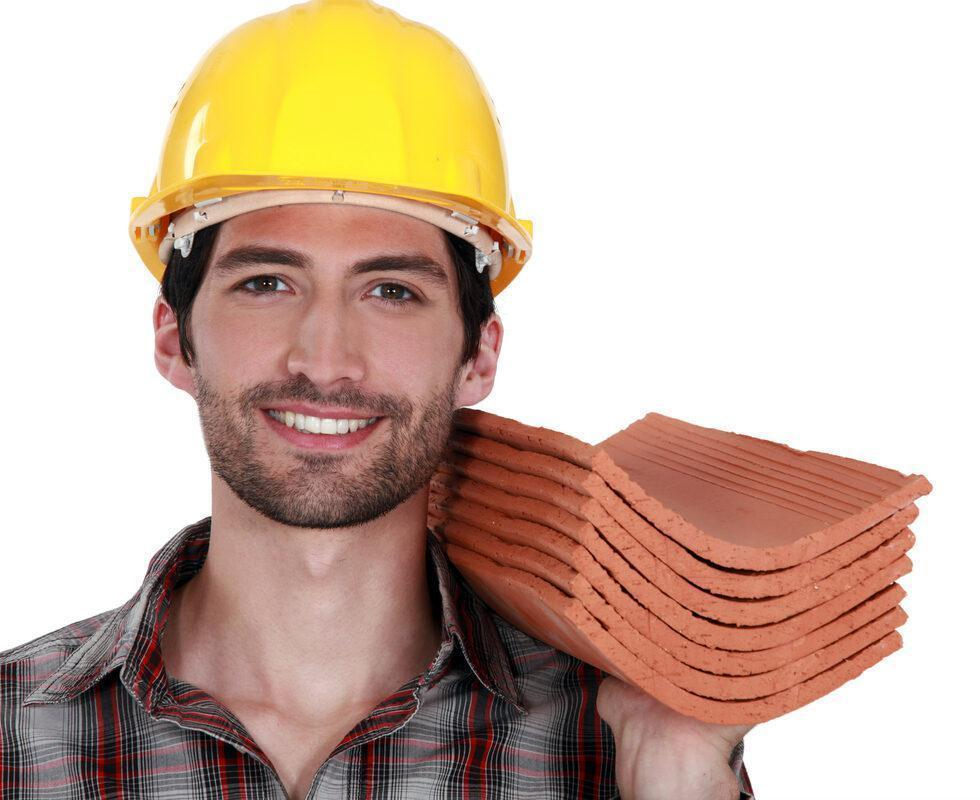helmet: (130, 2, 533, 288)
